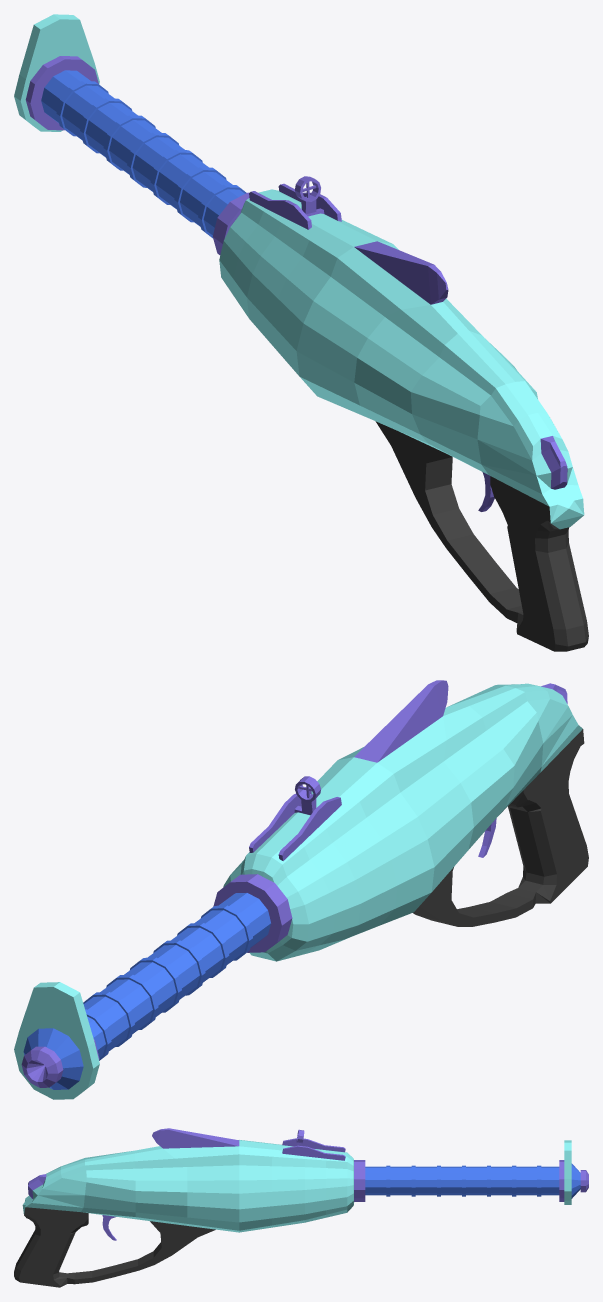
Rendered from FreezeModel.fbx.
The picture shows the model from 3 angles, top to bottom: view 1: azimuth 30°, elevation 25°; view 2: azimuth 150°, elevation 25°; view 3: azimuth 270°, elevation 25°; orthographic projection. The views are drawn at different scales.
Parts seen in each view (by area): view 1: Freeze Ray; view 2: Freeze Ray; view 3: Freeze Ray.
Part boxes in pixels (left/top/right/bottom): Freeze Ray: left=14, top=14, right=588, bottom=651; Freeze Ray: left=14, top=680, right=588, bottom=1099; Freeze Ray: left=14, top=1128, right=588, bottom=1287.
Size of the model in its own units: 201 by 403 by 1363.
